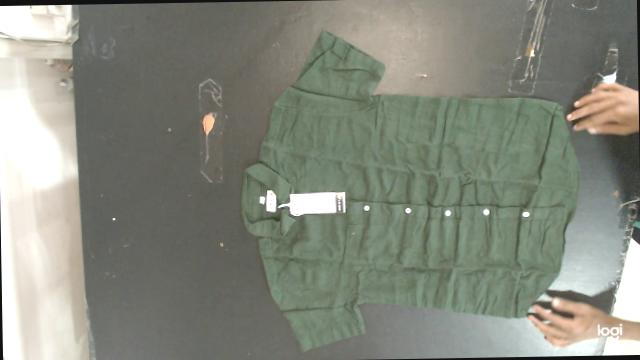new-garment: (241, 31, 579, 350)
